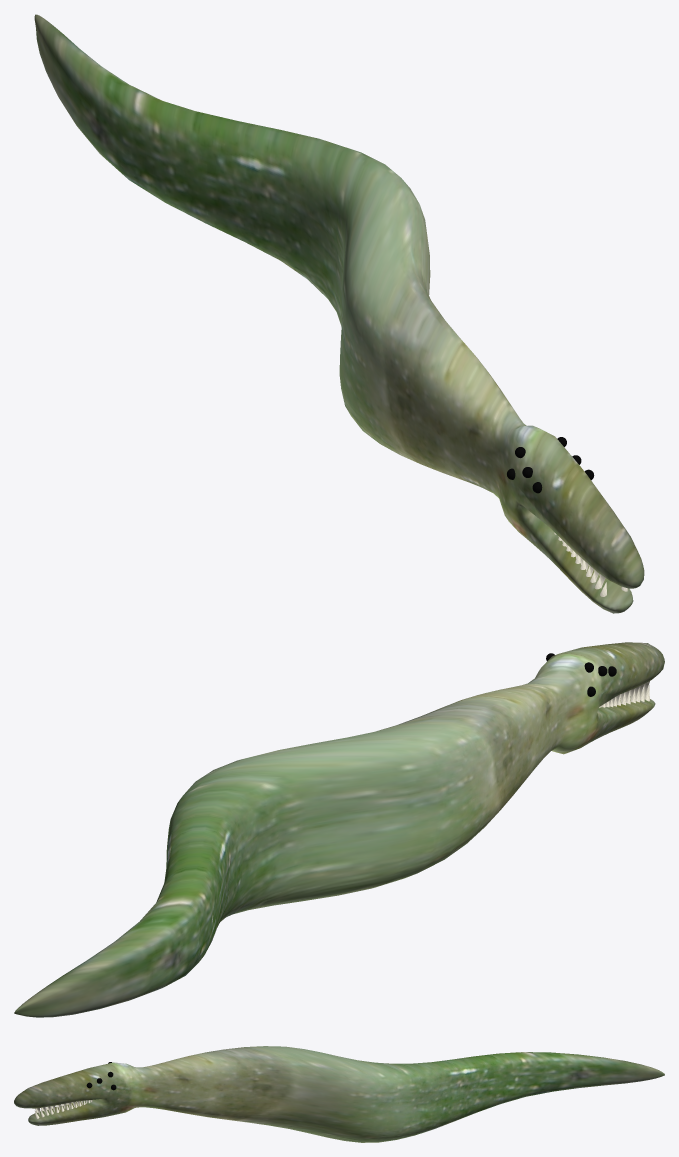
The model's file is Worm.fbx.
3 renders of one model, top to bottom at view 1: azimuth 30°, elevation 25°; view 2: azimuth 150°, elevation 25°; view 3: azimuth 270°, elevation 25°, orthographic. The views are drawn at different scales.
Parts seen in each view (by area): view 1: Body; view 2: Body; view 3: Body.
Boxes of the visible parts, <box> form: Body: <box>34,14,644,613</box>; Body: <box>14,642,664,1017</box>; Body: <box>14,1046,664,1142</box>.
Size of the model in its own units: 37.07 by 33.81 by 240.
3 materials, 2 textured.
